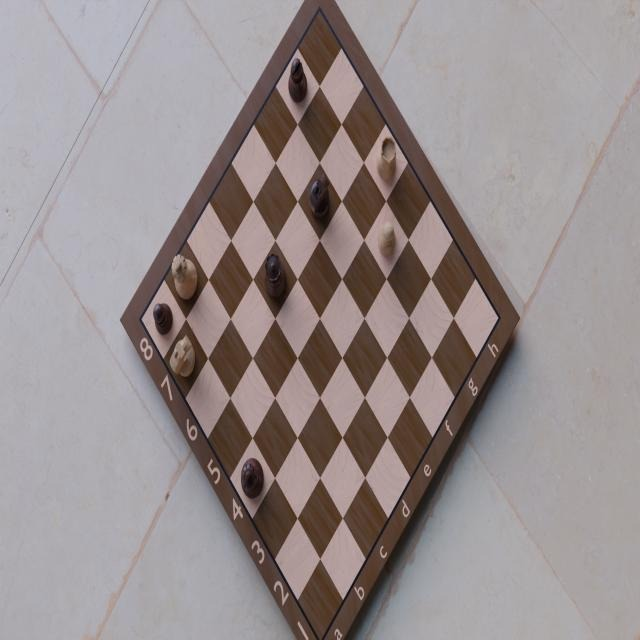black-bishop: (287, 57, 308, 103)
black-king: (239, 455, 264, 500)
black-knight: (308, 173, 332, 219)
black-pawn: (151, 300, 172, 335)
black-queen: (264, 250, 288, 299)
black-rook: (375, 135, 397, 183)
white-king: (171, 251, 199, 300)
white-knight: (169, 333, 197, 379)
white-pawn: (378, 220, 396, 257)
